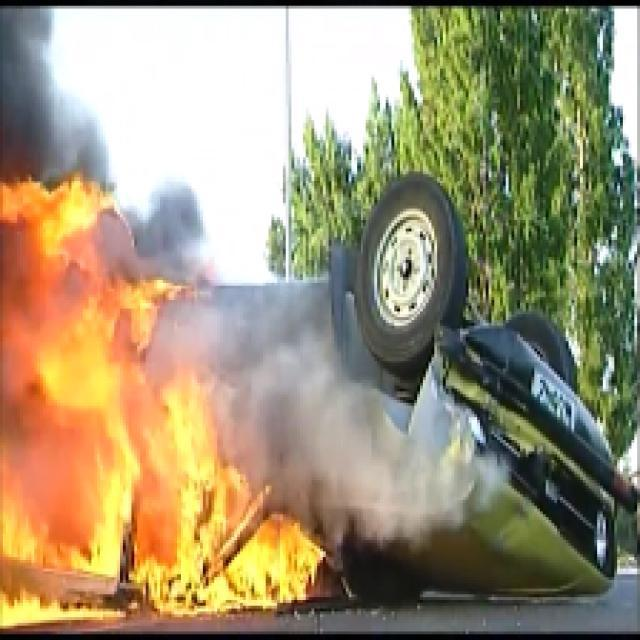Fire: (3, 177, 323, 623)
Smoke: (266, 302, 454, 534), (3, 11, 60, 158)
